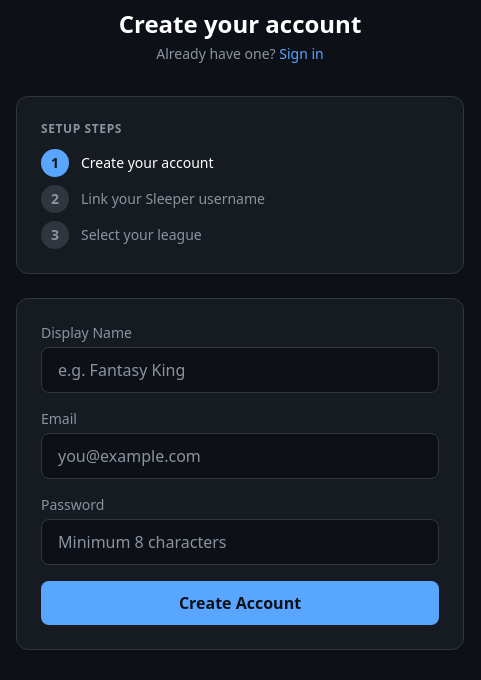
Test: Register page › shows the server error message when registration fails
The width and height of the screenshot is (481, 680).
Step 1. Type "Fantasy King" into the field labelled "Display Name" → (240, 370), box left=41, top=347, right=439, bottom=393
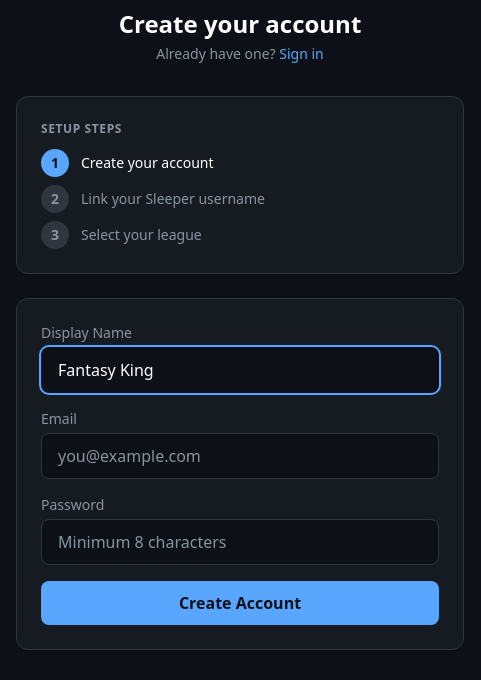
Step 2. Type "king@example.com" into the field labelled "Email" → (240, 456), box left=41, top=433, right=439, bottom=479
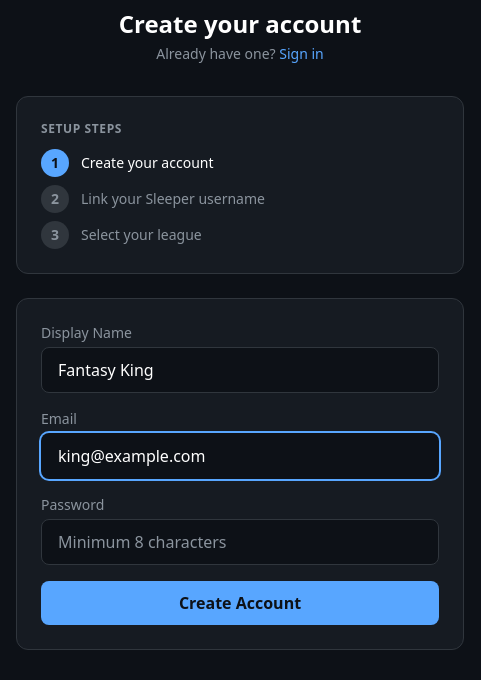
Step 3. Type "password123" into the password field labelled "Password" → (240, 542), box left=41, top=519, right=439, bottom=565
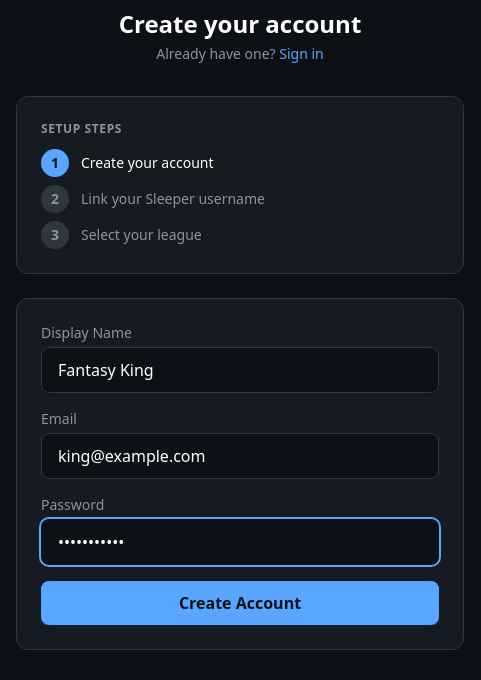
Step 4. Click the button "Create Account" → (240, 603), box left=41, top=581, right=439, bottom=625
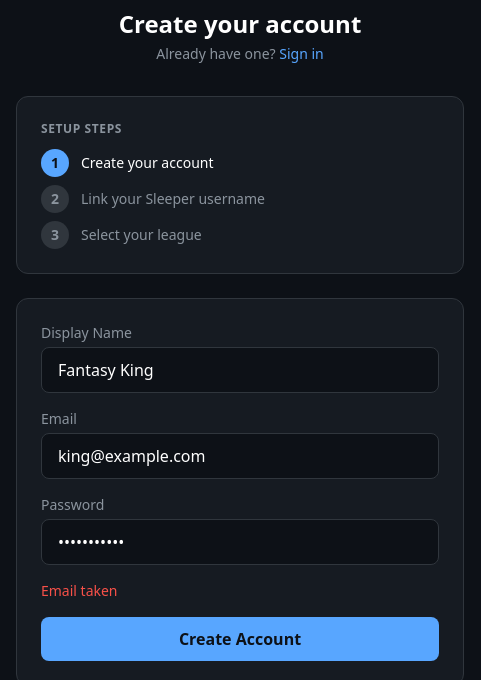
Result: the text "Email taken" is shown at left=41, top=581, right=118, bottom=600
